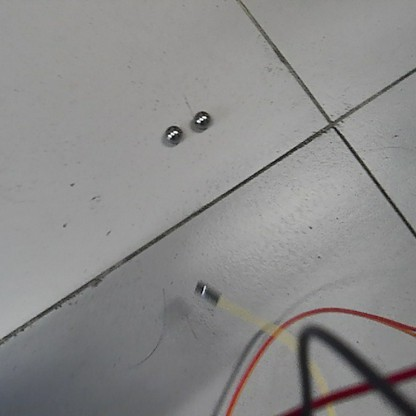ironball: (191, 110, 212, 129), (164, 124, 182, 145)
